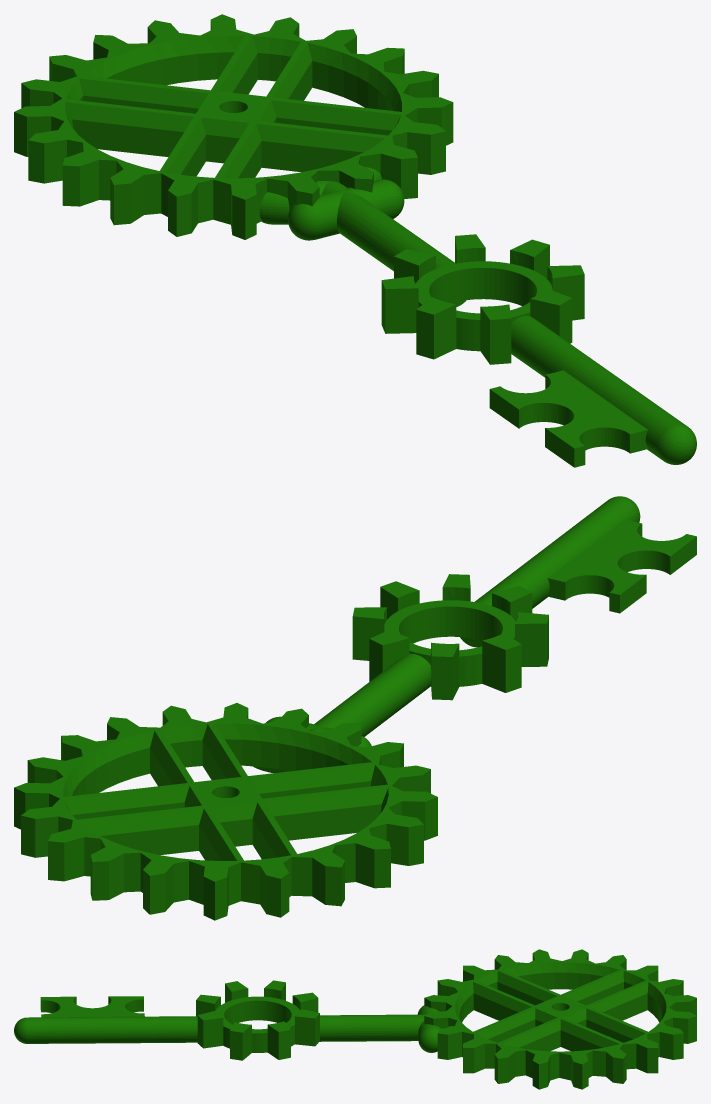
File: Steampunk_Key4.stl.glb
3 renders of one model, top to bottom at view 1: azimuth 30°, elevation 25°; view 2: azimuth 150°, elevation 25°; view 3: azimuth 270°, elevation 25°, orthographic. The views are drawn at different scales.
Visible parts, largest first — view 1: Steampunk_Key4; view 2: Steampunk_Key4; view 3: Steampunk_Key4.
Boxes of the visible parts, x1,y1,x2,y2 form: Steampunk_Key4: [14, 14, 696, 467]; Steampunk_Key4: [14, 496, 696, 920]; Steampunk_Key4: [14, 949, 696, 1089].
Size of the model in its own units: 48.93 by 6.64 by 123.
